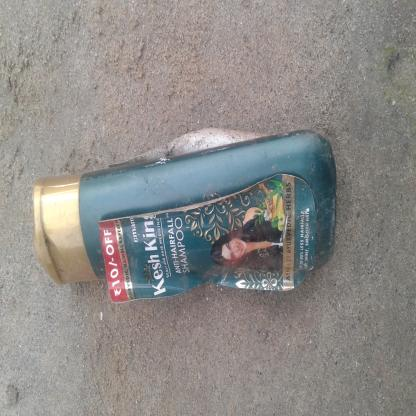bottle: (62, 57, 163, 416)
